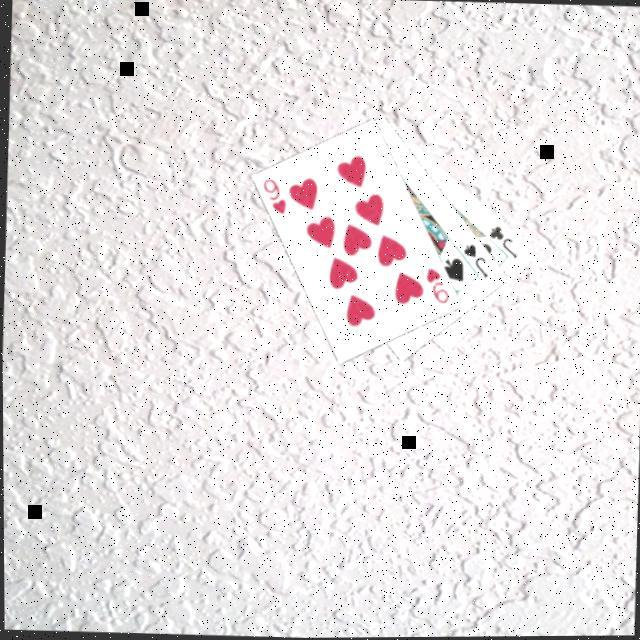9H: (422, 264, 453, 306), (260, 174, 290, 217)
JC: (487, 222, 522, 261)
JS: (459, 240, 492, 281)
